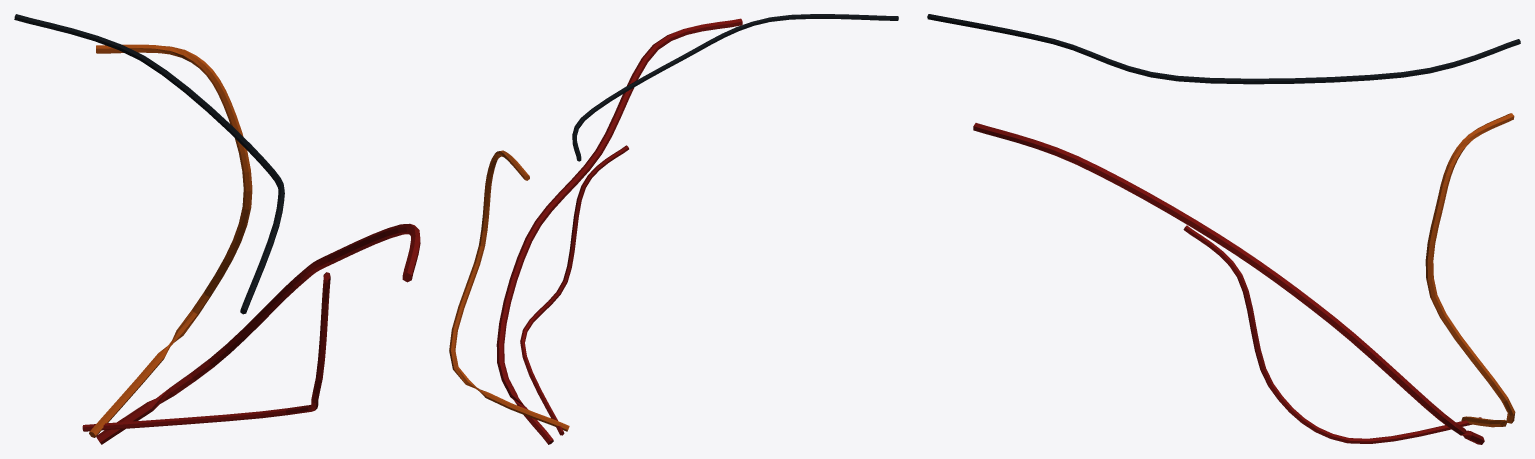
File: ScrapSonic_Wires.obj
The picture shows the model from 3 angles, left to right: view 1: azimuth 30°, elevation 25°; view 2: azimuth 150°, elevation 25°; view 3: azimuth 270°, elevation 25°; orthographic projection. The views are drawn at different scales.
Visible parts, largest first — view 1: WireRed, WireOrange, Rubber; view 2: WireRed, WireOrange, Rubber; view 3: WireRed, Rubber, WireOrange.
Part boxes in pixels (left/top/right/bottom): WireRed: left=82, top=223, right=420, bottom=444; WireOrange: left=89, top=44, right=252, bottom=437; Rubber: left=14, top=14, right=284, bottom=314; WireRed: left=496, top=18, right=742, bottom=444; WireOrange: left=449, top=150, right=569, bottom=431; Rubber: left=572, top=14, right=898, bottom=161; WireRed: left=973, top=123, right=1484, bottom=444; Rubber: left=927, top=14, right=1520, bottom=84; WireOrange: left=1425, top=113, right=1515, bottom=427.
Bounding box in the file's own units: 0.3938 × 0.5384 × 0.7647.
